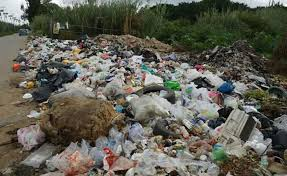garbage: (31, 36, 170, 176), (135, 50, 274, 176), (17, 42, 156, 168), (197, 69, 287, 175)
